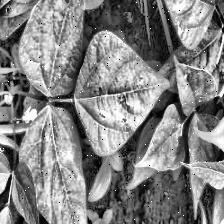ALS: (71, 28, 170, 159), (22, 105, 100, 224), (148, 29, 224, 96), (0, 0, 52, 41)
